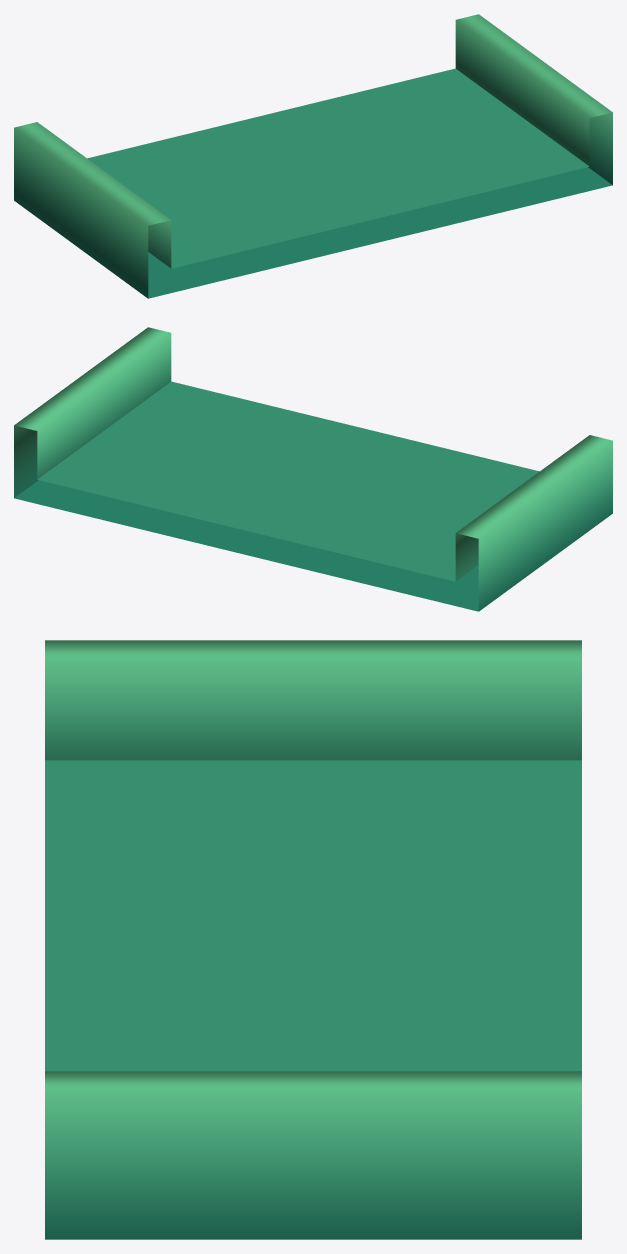
Rendered from track-wide.fbx.
3 renders of one model, top to bottom at view 1: azimuth 30°, elevation 25°; view 2: azimuth 150°, elevation 25°; view 3: azimuth 270°, elevation 25°, orthographic. The views are drawn at different scales.
Visible parts, largest first — view 1: track-wide; view 2: track-wide; view 3: track-wide.
Boxes of the visible parts, x1,y1,x2,y2 form: track-wide: (14,14,612,298); track-wide: (14,327,612,611); track-wide: (45,640,581,1239).
Bounding box in the file's own units: 200 × 30 × 100.
